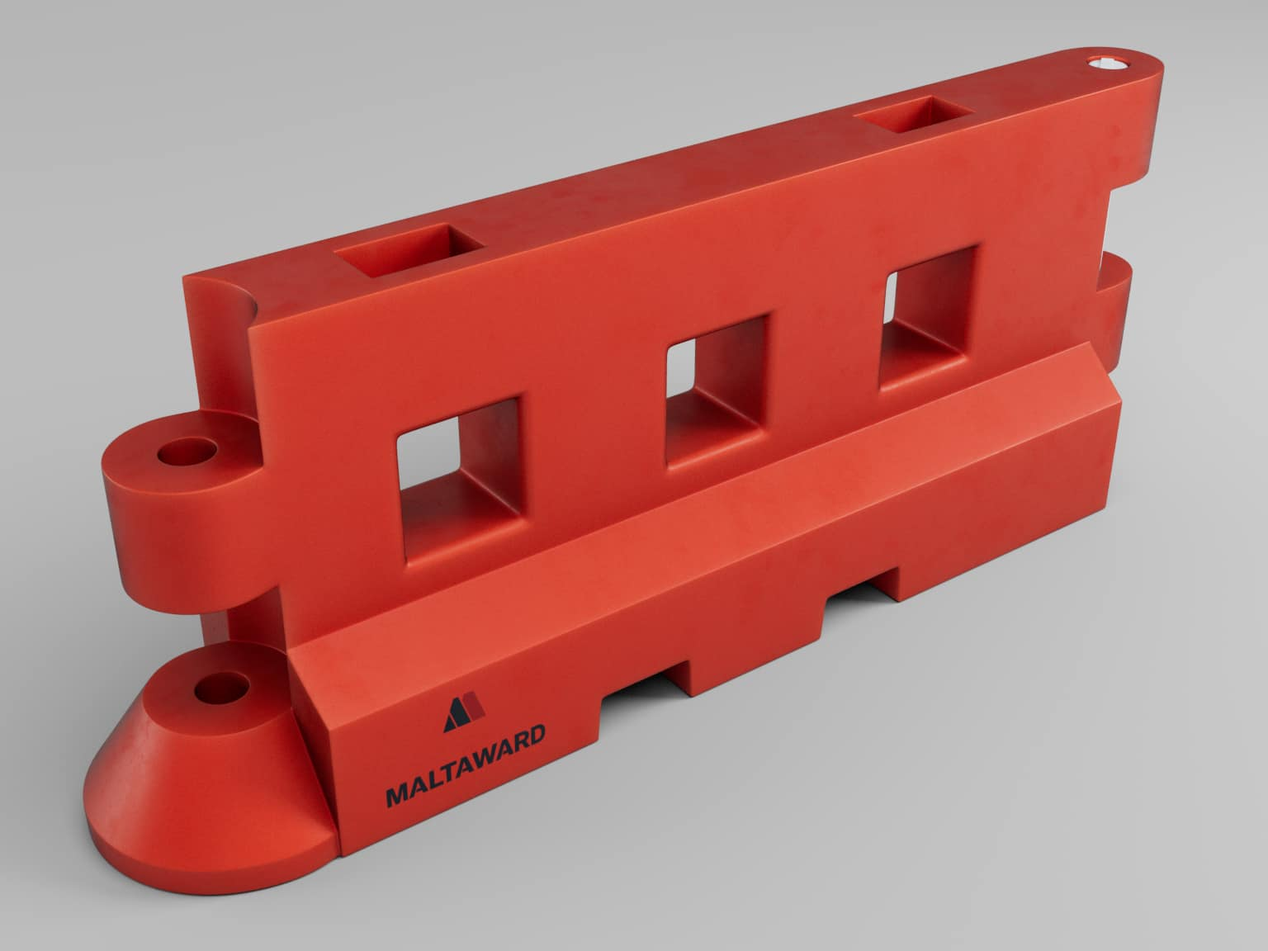Barrier: (50, 22, 1226, 901)
